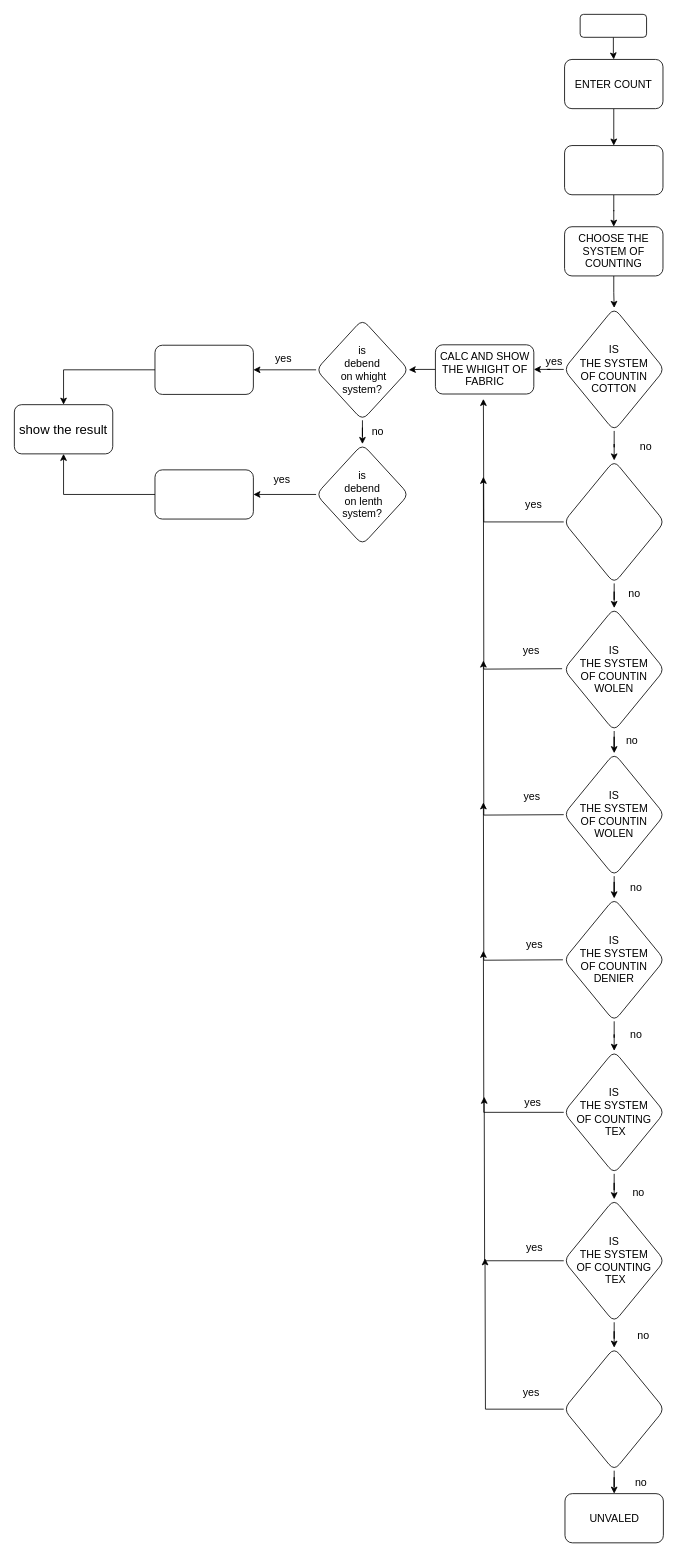
Some shapes in this 679 by 1557 pixel diagram are drawn without their labels. Each missing label, with the centre of its shape:
"ENTER WARB&WEFT" belongs at pixel 613 170.
"function for lenth system" belongs at pixel 203 494.
"function for whight system" belongs at pixel 203 369.
"IS THE SYSTEM OF COUNTIN LINEN" belongs at pixel 614 521.
"IS THE SYSTEM OF COUNTING DETEX" belongs at pixel 614 1409.
"START" belongs at pixel 613 25.
